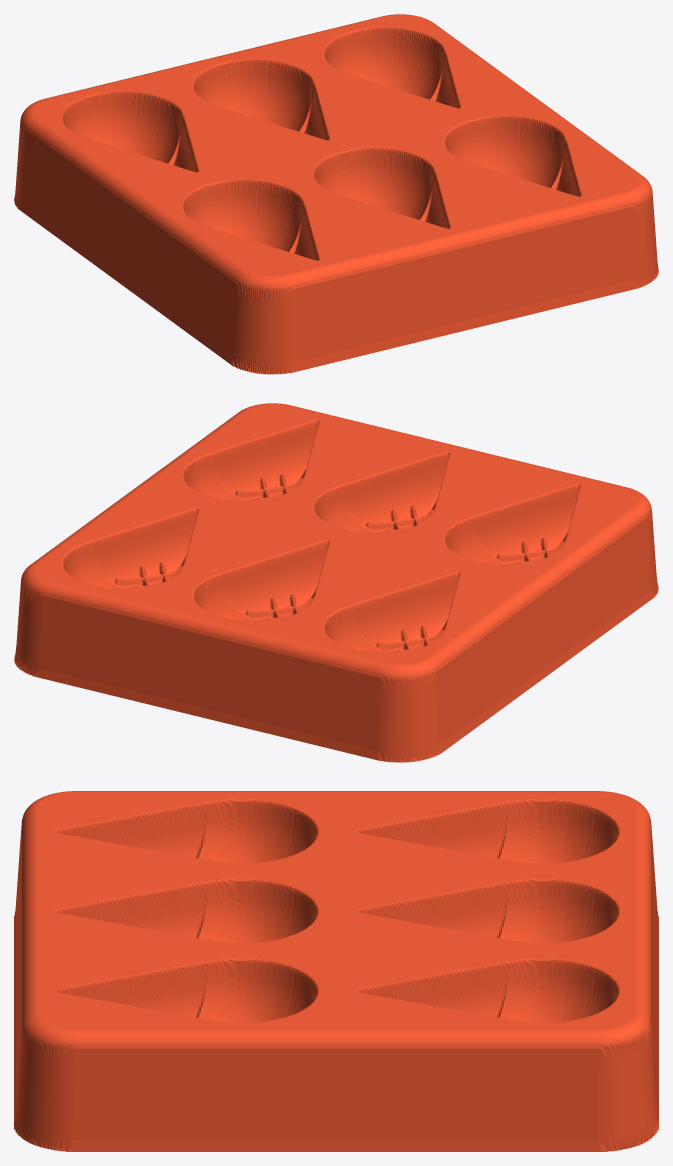
Rendered from mold.glb.
3 views of the same model, one above another, from view 1: azimuth 30°, elevation 25°; view 2: azimuth 150°, elevation 25°; view 3: azimuth 270°, elevation 25° (orthographic). The views are drawn at different scales.
Visible parts, largest first — view 1: geometry_0; view 2: geometry_0; view 3: geometry_0.
Boxes of the visible parts, box(x1,y1,x2,y2) form: geometry_0: box(14, 14, 658, 374); geometry_0: box(14, 403, 658, 762); geometry_0: box(14, 791, 658, 1151).
Bounding box in the file's own units: 0.0894 × 0.0182 × 0.0947.
